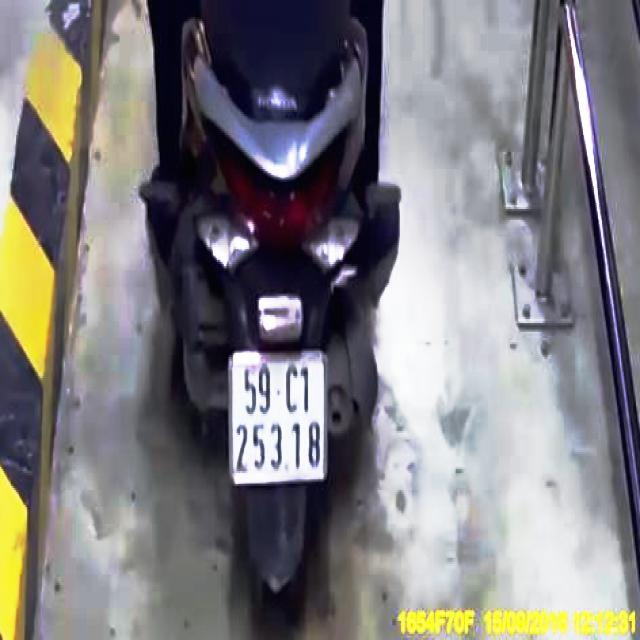license_plate: (231, 354, 327, 486)
